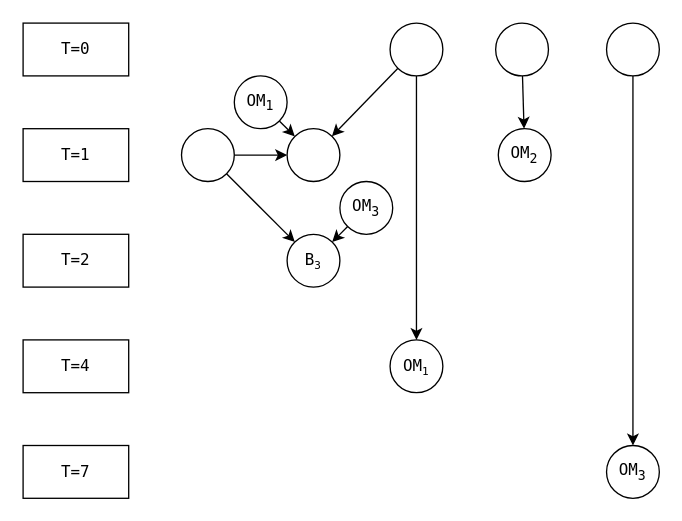
The diagram is 682 pixels wide and 521 high, and some of its shapes have lost their labels. The centre of each missing label's shape, as x and y in pixels:
"B 1" goes at pixel 207 154.
"B 2" goes at pixel 313 154.
"IM 1" goes at pixel 416 49.
"IM 2" goes at pixel 521 49.
"IM 3" goes at pixel 632 49.
